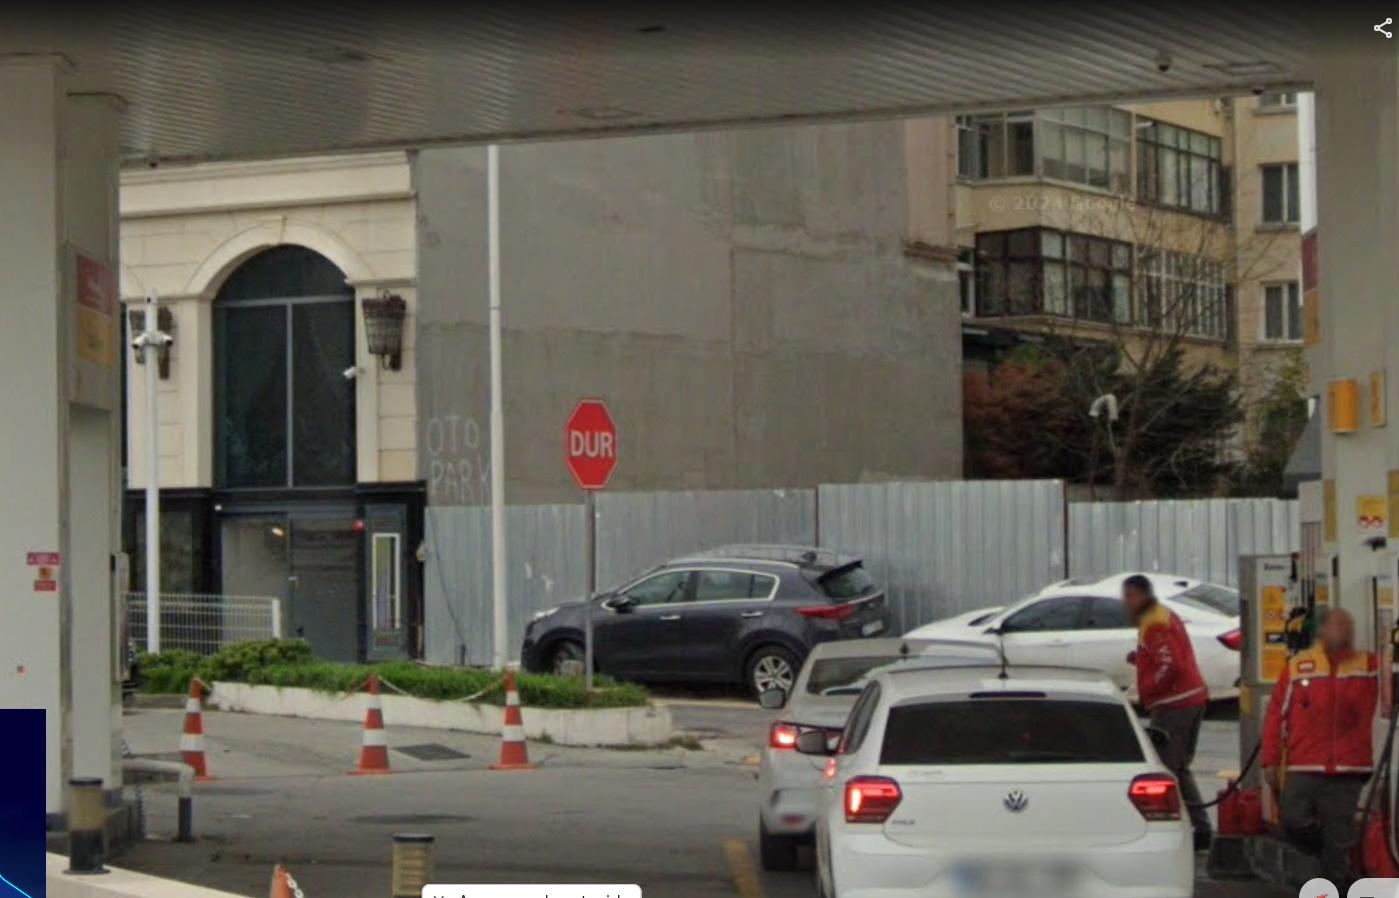stop: (566, 395, 618, 485)
